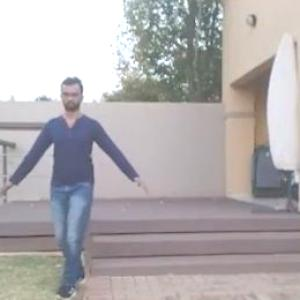land: (5, 77, 154, 299)
